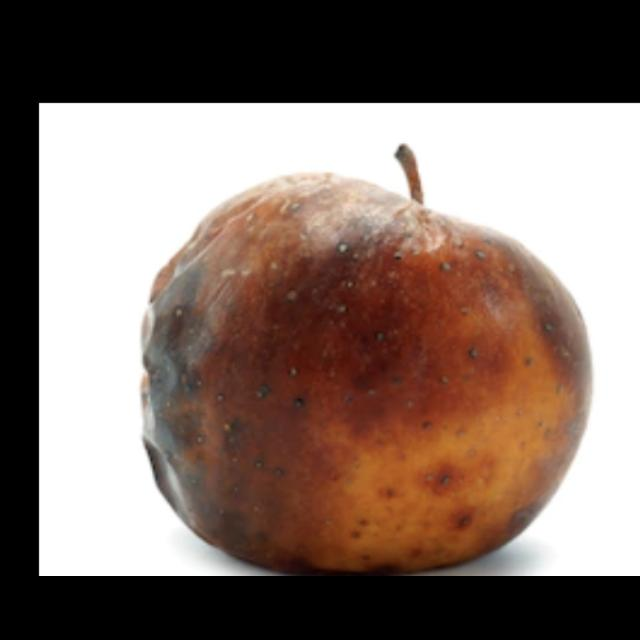Apel Tidak Segar: (120, 122, 606, 574)
